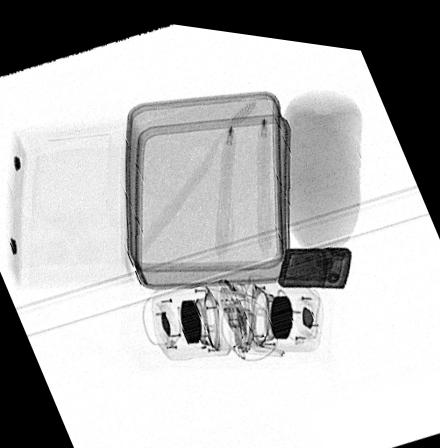Lighter: (277, 236, 353, 280)
